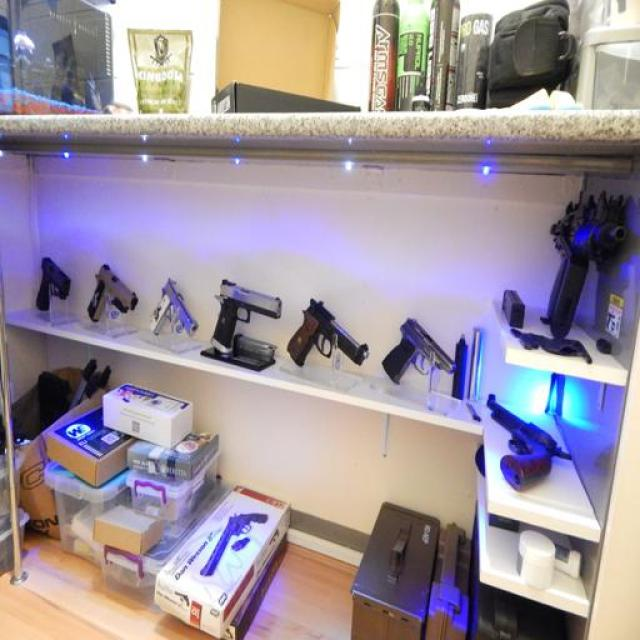pistol: (483, 393, 568, 518), (209, 272, 281, 385), (383, 307, 451, 405), (291, 295, 363, 372), (139, 282, 200, 346), (90, 259, 134, 334), (29, 242, 70, 320)
